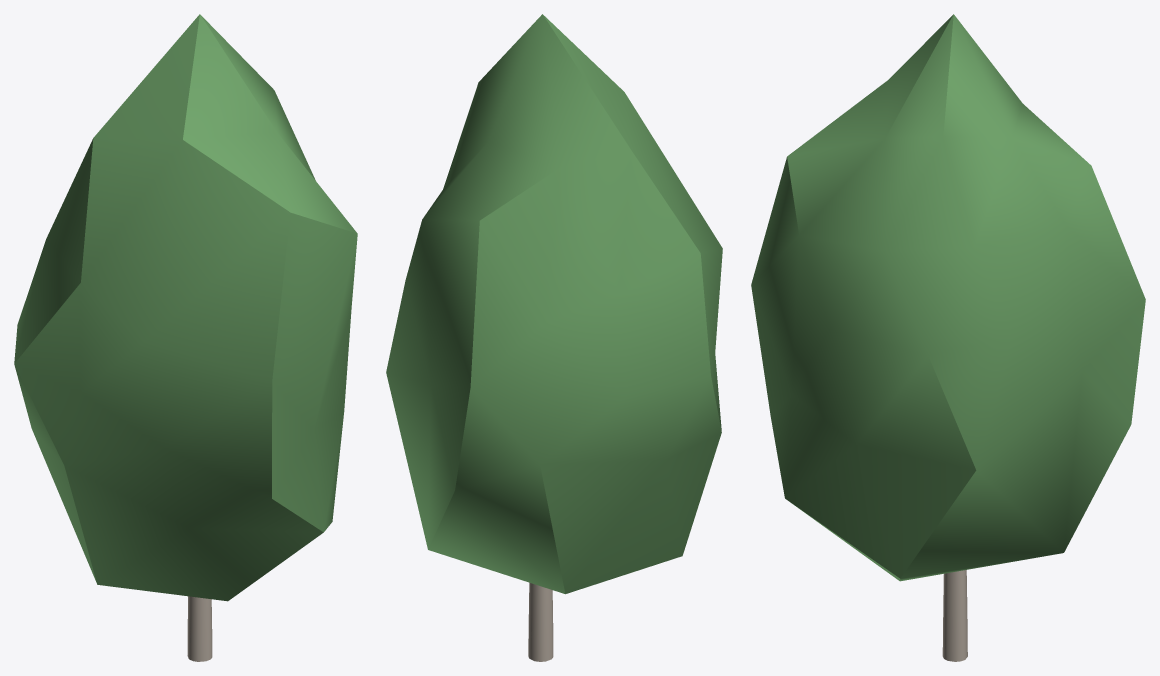
File: TreeModel.gltf
3 renders of one model, left to right at view 1: azimuth 30°, elevation 25°; view 2: azimuth 150°, elevation 25°; view 3: azimuth 270°, elevation 25°, orthographic.
Parts seen in each view (by area): view 1: Sphere, Sweep.1; view 2: Sphere, Sweep.1; view 3: Sphere, Sweep.1.
Part boxes in pixels (x1,y1,x2,y2): Sphere: (14,14,357,601); Sweep.1: (187,596,212,661); Sphere: (386,14,722,594); Sweep.1: (528,582,553,661); Sphere: (751,14,1145,581); Sweep.1: (942,570,967,661).
Size of the model in its own units: 2.17 by 4.13 by 2.3.
